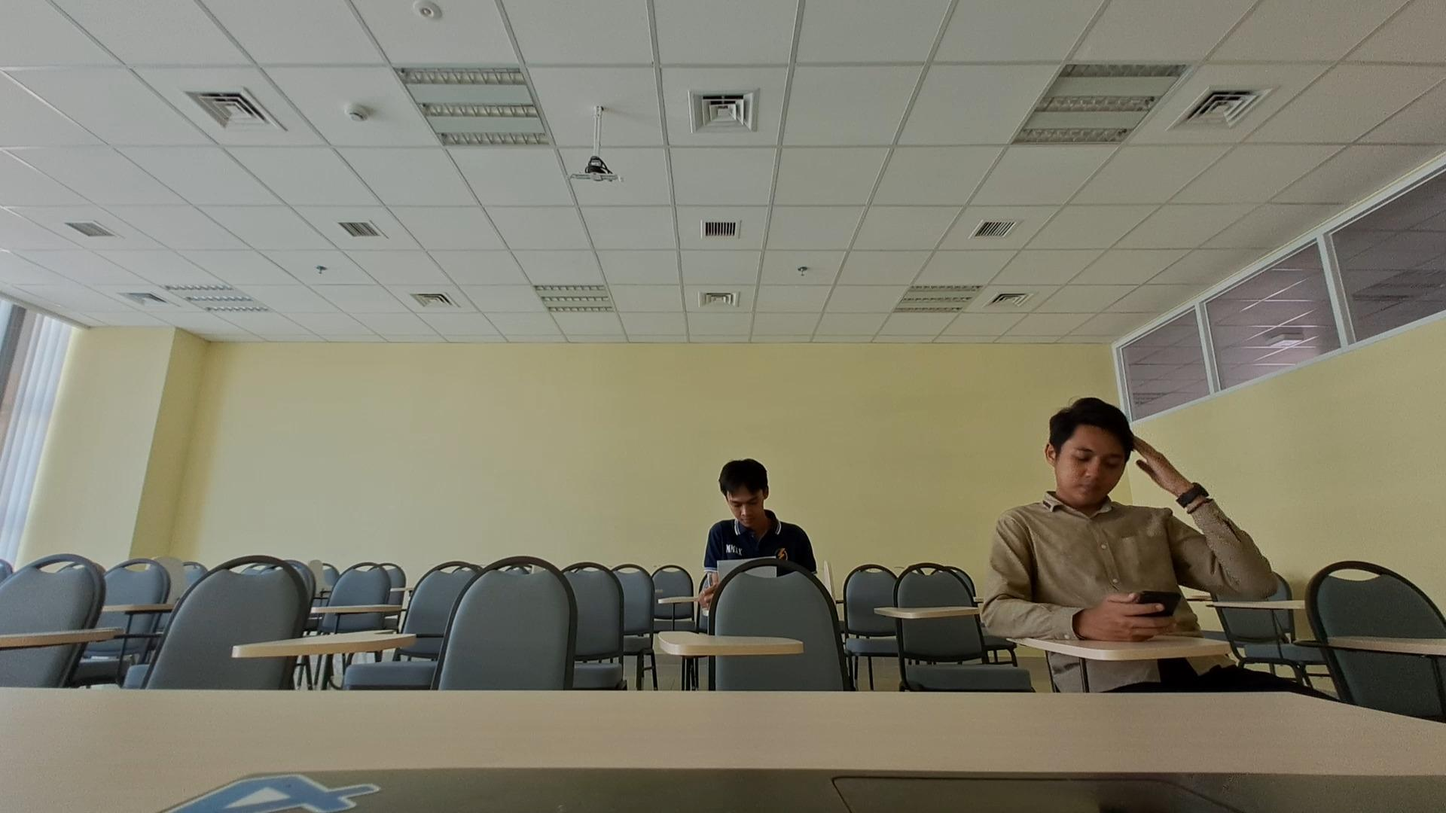phone: (983, 393, 1280, 642)
study: (691, 459, 827, 642)
